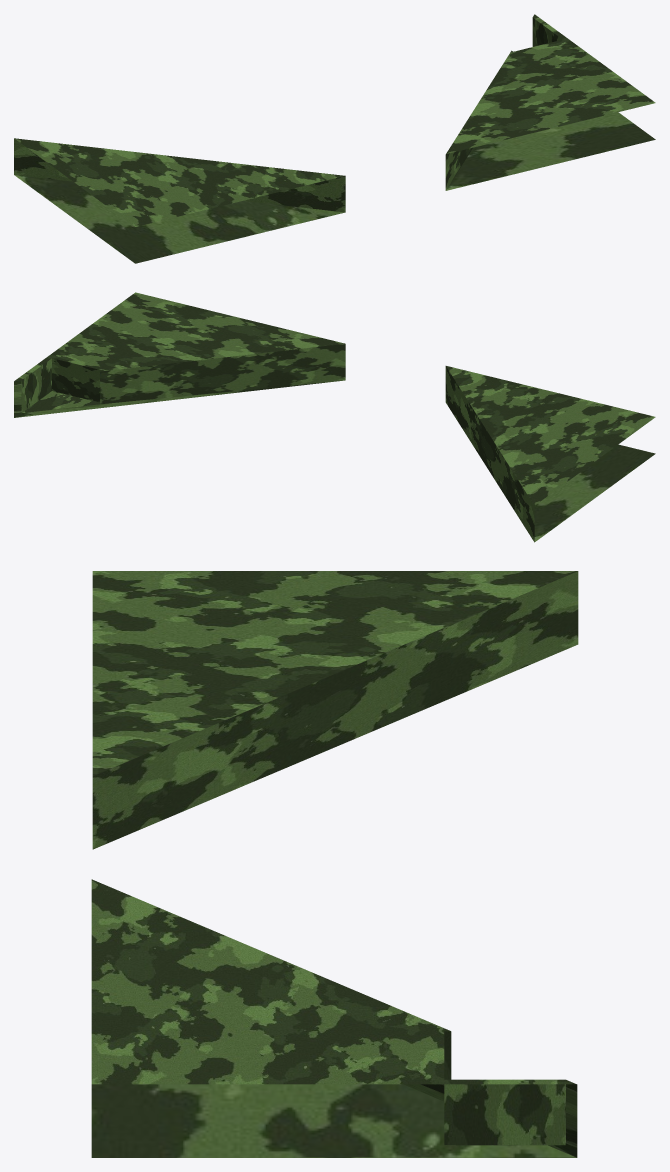
File: WallsFront.obj
3 views of the same model, one above another, from view 1: azimuth 30°, elevation 25°; view 2: azimuth 150°, elevation 25°; view 3: azimuth 270°, elevation 25° (orthographic). The views are drawn at different scales.
Visible parts, largest first — view 1: WallsFront; view 2: WallsFront; view 3: WallsFront.
Part boxes in pixels (box(x1,y1,x2,y2)): WallsFront: box(14, 14, 655, 263); WallsFront: box(14, 292, 655, 542); WallsFront: box(91, 571, 578, 1157).
Size of the model in its own units: 191 by 13.81 by 77.25.
1 material, 1 textured.
